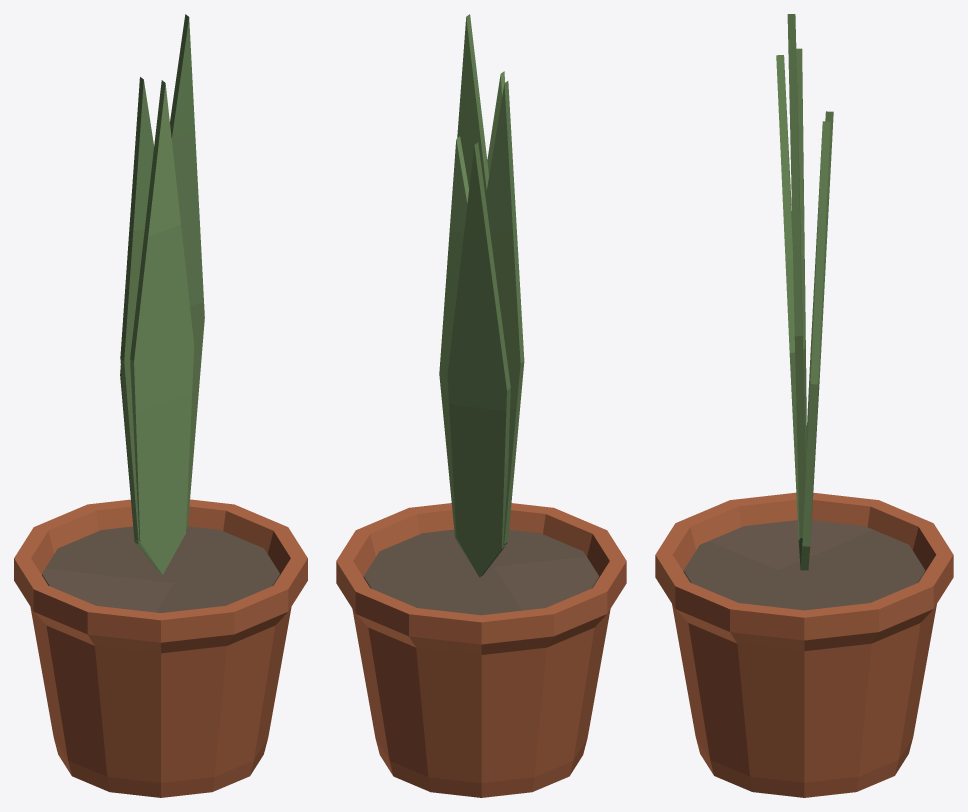
The model's file is snake.glb.
3 views of the same model, side by side, from view 1: azimuth 30°, elevation 25°; view 2: azimuth 150°, elevation 25°; view 3: azimuth 270°, elevation 25° (orthographic). The views are drawn at different scales.
Visible parts, largest first — view 1: snake/review-terra-vessel, snake/leaf-005, snake/review-rooted-soil, snake/leaf-003, snake/leaf-002; view 2: snake/review-terra-vessel, snake/leaf-004, snake/review-rooted-soil, snake/leaf-002, snake/leaf-001, snake/leaf-003, snake/leaf-005; view 3: snake/review-terra-vessel, snake/review-rooted-soil, snake/leaf-003, snake/leaf-001, snake/leaf-005, snake/leaf-002, snake/leaf-004.
Boxes of the visible parts, x1=… form: snake/review-terra-vessel: x1=14, y1=499, x2=307, y2=797; snake/leaf-005: x1=130, y1=80, x2=194, y2=574; snake/review-rooted-soil: x1=42, y1=526, x2=279, y2=612; snake/leaf-003: x1=170, y1=14, x2=204, y2=528; snake/leaf-002: x1=120, y1=77, x2=161, y2=573; snake/review-terra-vessel: x1=336, y1=503, x2=626, y2=797; snake/leaf-004: x1=447, y1=142, x2=510, y2=577; snake/review-rooted-soil: x1=363, y1=529, x2=599, y2=615; snake/leaf-002: x1=483, y1=81, x2=524, y2=574; snake/leaf-001: x1=439, y1=136, x2=476, y2=572; snake/leaf-003: x1=457, y1=14, x2=488, y2=196; snake/leaf-005: x1=482, y1=71, x2=505, y2=575; snake/review-terra-vessel: x1=655, y1=492, x2=953, y2=797; snake/review-rooted-soil: x1=683, y1=520, x2=925, y2=610; snake/leaf-003: x1=787, y1=14, x2=805, y2=567; snake/leaf-001: x1=800, y1=121, x2=830, y2=570; snake/leaf-005: x1=776, y1=55, x2=803, y2=570; snake/leaf-002: x1=796, y1=48, x2=806, y2=467; snake/leaf-004: x1=809, y1=111, x2=833, y2=560.
Bounding box in the file's own units: 0.19 × 0.5271 × 0.19.
3 materials, 3 textured.
